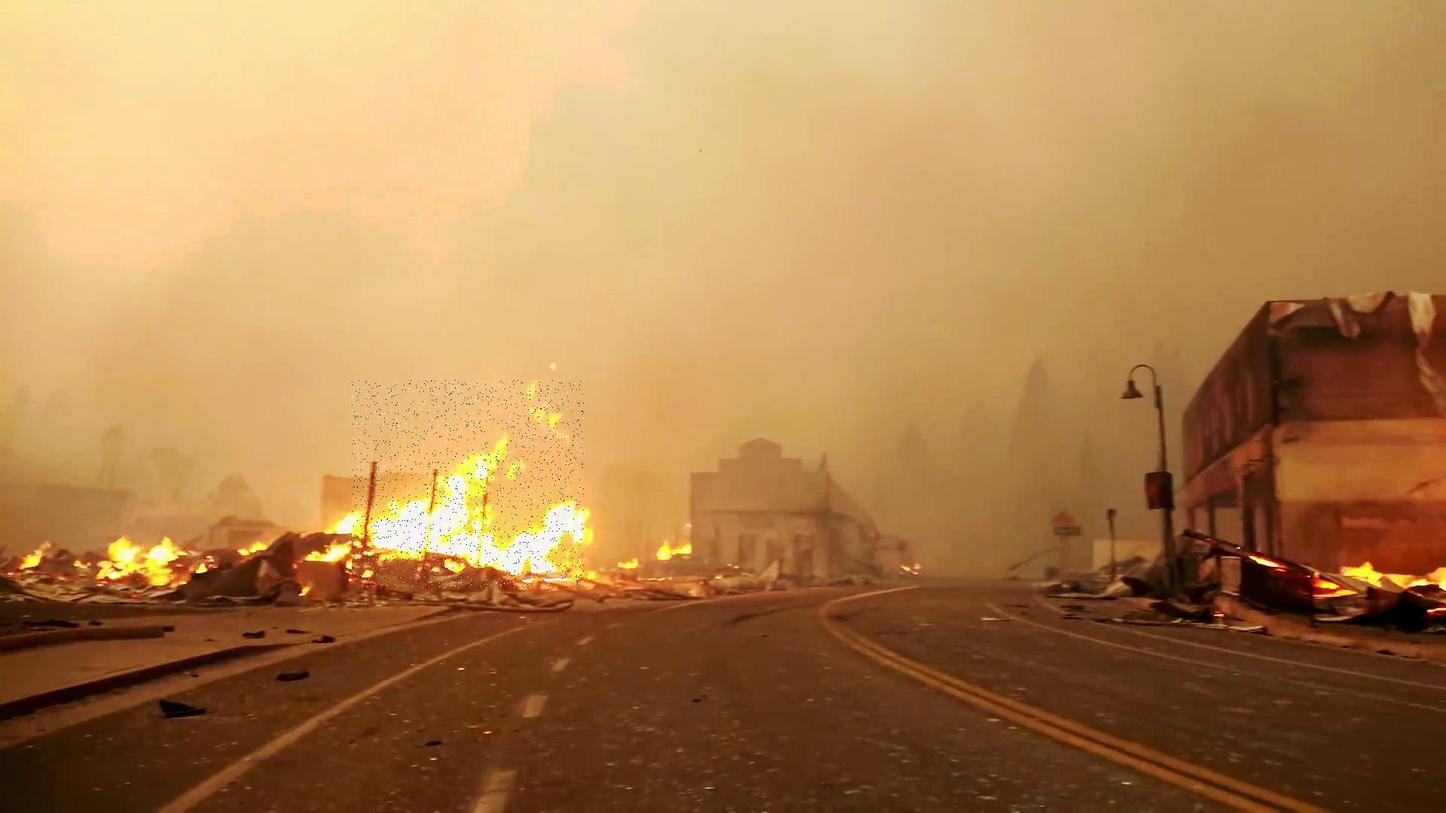fire: (352, 381, 584, 589)
